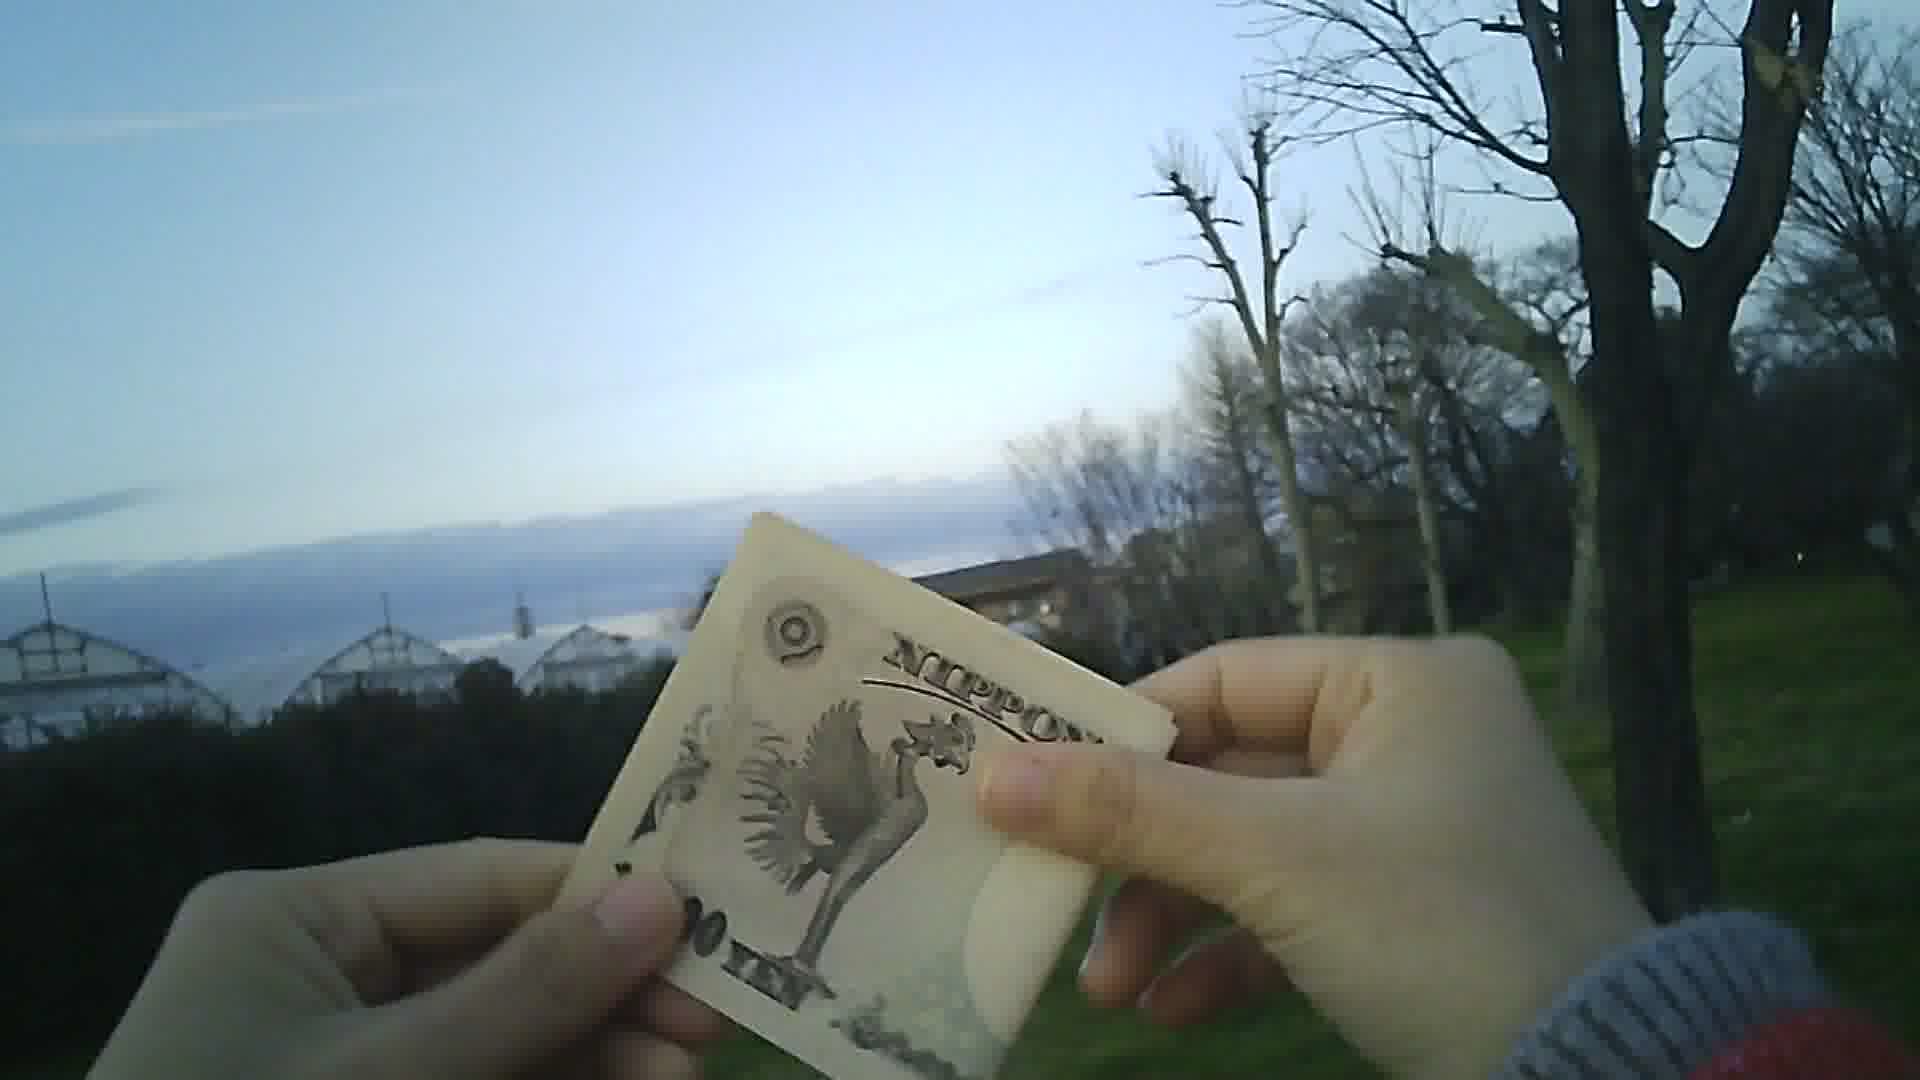10,000 Yen: (497, 504, 1163, 1079)
